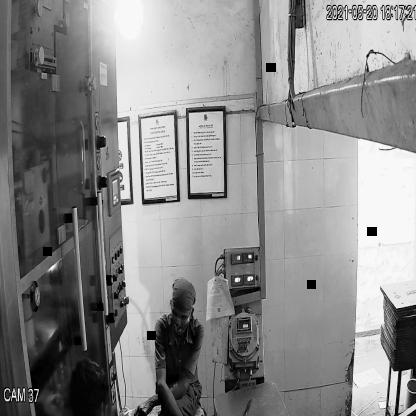goggles: (167, 306, 195, 328)
